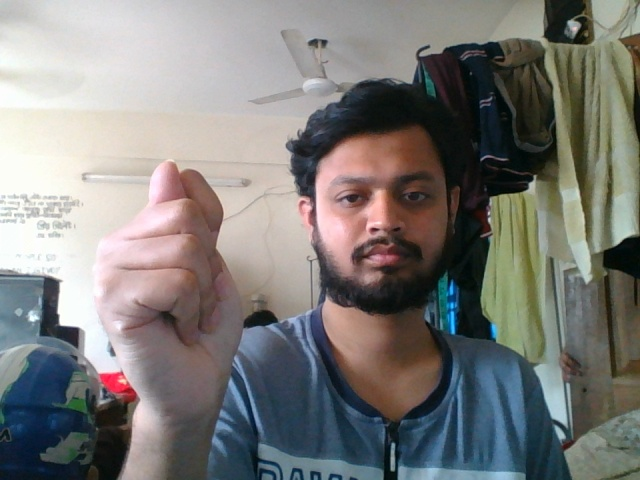ta: (89, 156, 255, 450)
